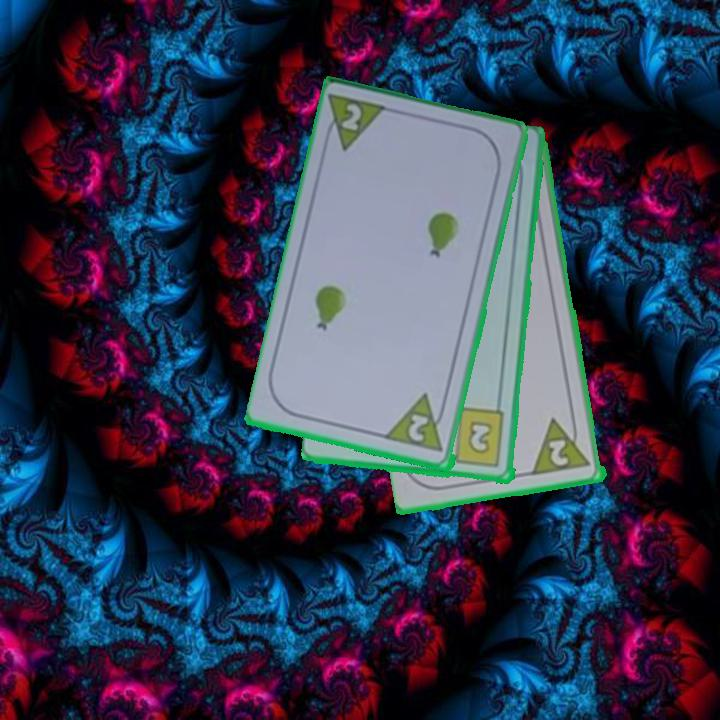2b: (442, 406, 507, 470)
2p: (320, 90, 393, 155), (384, 391, 451, 456), (530, 412, 594, 479)
